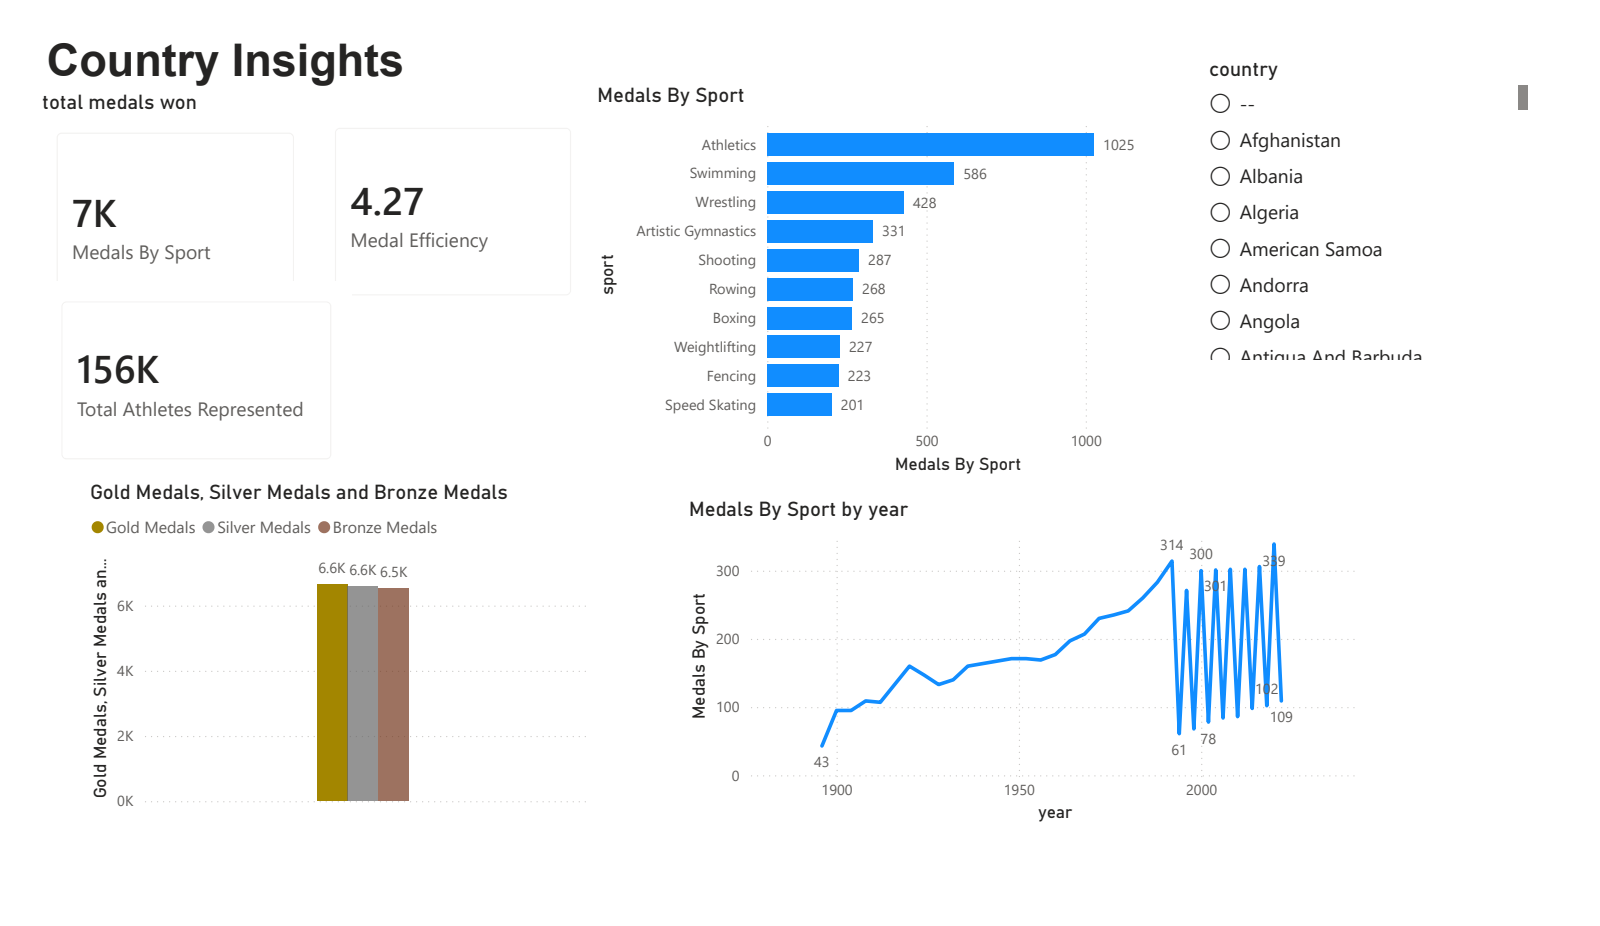

Layout of this report page (visuals, bound fields, positions):
{"tool":"powerbi","page":{"name":"Country_Insights","canvas":[1280,720],"ordinal":1},"visuals":[{"type":"textbox","box":[9.8,0,373,280],"z":0},{"type":"listSlicer","fields":{"Values":["olympic_country.country"]},"box":[974.6,23.2,273.9,256.8],"z":1000},{"type":"cardVisual","title":"total medals won ","fields":{"Data":["olympic_athelete_event_result.Medals By Sport"]},"box":[6,50,231,205],"z":2000},{"type":"cardVisual","fields":{"Data":["medal_tally.Medal Efficiency"]},"box":[237.2,64.8,229.9,173.6],"z":3000},{"type":"clusteredColumnChart","fields":{"Y":["medal_tally.Gold Medals","medal_tally.Silver Medals","medal_tally.Bronze Medals"]},"box":[46.5,374.2,420.7,280],"z":4000},{"type":"lineChart","fields":{"Category":["games.year"],"Y":["olympic_athelete_event_result.Medals By Sport"]},"box":[542.9,387.6,568.6,275.1],"z":5000},{"type":"clusteredBarChart","title":"Medals By Sport","fields":{"Category":["olympic_athelete_event_result.sport"],"Y":["olympic_athelete_event_result.Medals By Sport"]},"box":[467.1,45.2,480.6,328.9],"z":6000},{"type":"cardVisual","fields":{"Data":["olympic_athelete_event_result.Total Athletes Represented"]},"box":[9.8,209.1,258,165.1],"z":7000}]}

Visuals, with their boxes in screenshot pixels (x1, y1, x2, y2), scaled from the page's 1280x720 canvas onto the 1600x926 screenshot:
textbox: {"x1": 12, "y1": 0, "x2": 478, "y2": 360}
listSlicer - olympic_country.country: {"x1": 1218, "y1": 30, "x2": 1561, "y2": 360}
"total medals won " cardVisual: {"x1": 8, "y1": 64, "x2": 296, "y2": 328}
cardVisual - medal_tally.Medal Efficiency: {"x1": 296, "y1": 83, "x2": 584, "y2": 307}
clusteredColumnChart - medal_tally.Gold Medals x medal_tally.Silver Medals: {"x1": 58, "y1": 481, "x2": 584, "y2": 841}
lineChart - games.year x olympic_athelete_event_result.Medals By Sport: {"x1": 679, "y1": 498, "x2": 1389, "y2": 852}
"Medals By Sport" clusteredBarChart: {"x1": 584, "y1": 58, "x2": 1185, "y2": 481}
cardVisual - olympic_athelete_event_result.Total Athletes Represented: {"x1": 12, "y1": 269, "x2": 335, "y2": 481}
